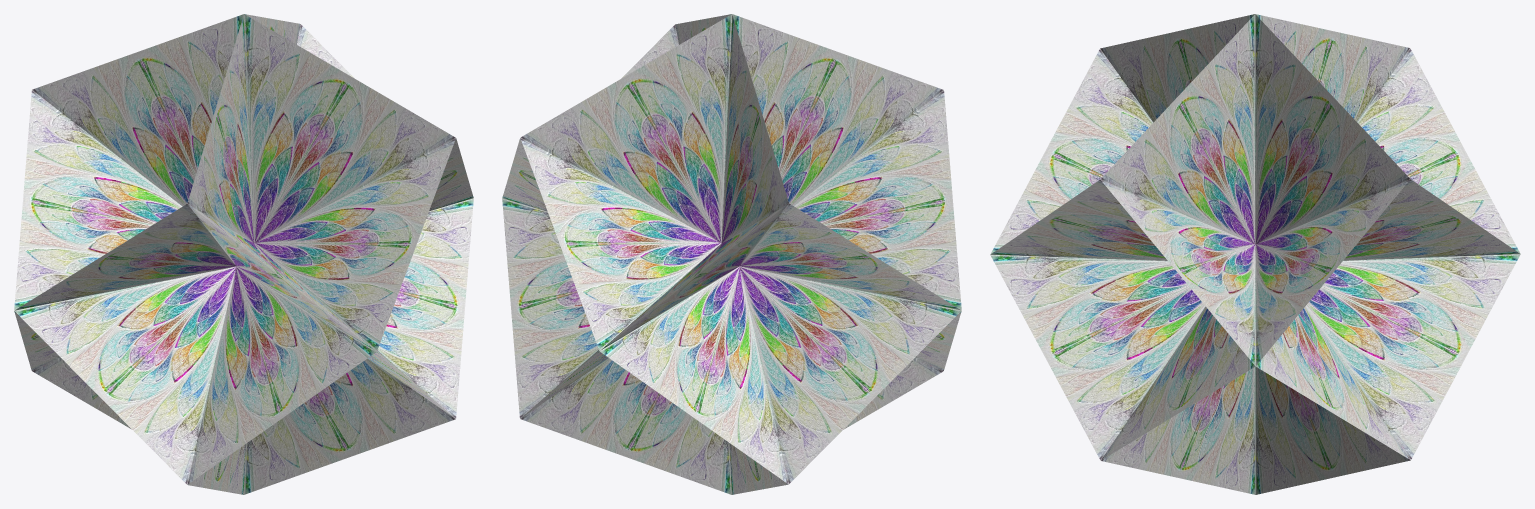
Rendered from Mobius48b_11.obj.
3 renders of one model, left to right at view 1: azimuth 30°, elevation 25°; view 2: azimuth 150°, elevation 25°; view 3: azimuth 270°, elevation 25°, orthographic.
Size of the model in its own units: 2.16 by 2.16 by 2.16.
Materials: 1 (1 with a texture image).
